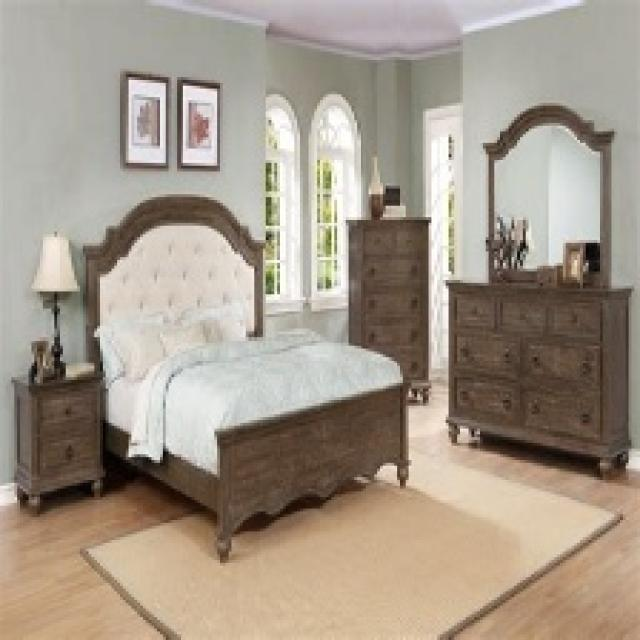Bed: (80, 191, 409, 563)
